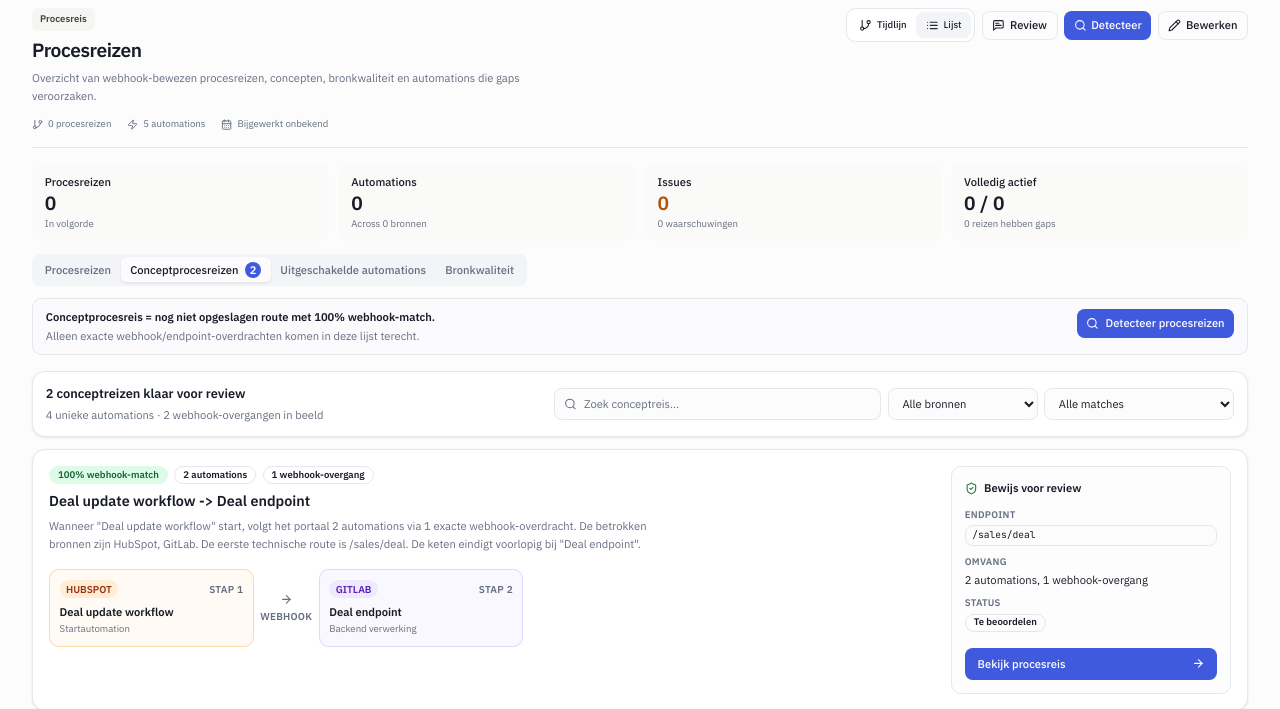
Scenario: concept journeys list › filters concept journey cards by search text
This screenshot has width=1280, height=709.
Step 1. Type "intake" into the field named "Zoek conceptreizen" → point(718, 404), box x1=554 y1=388 x2=881 y2=420
(page scrolled)
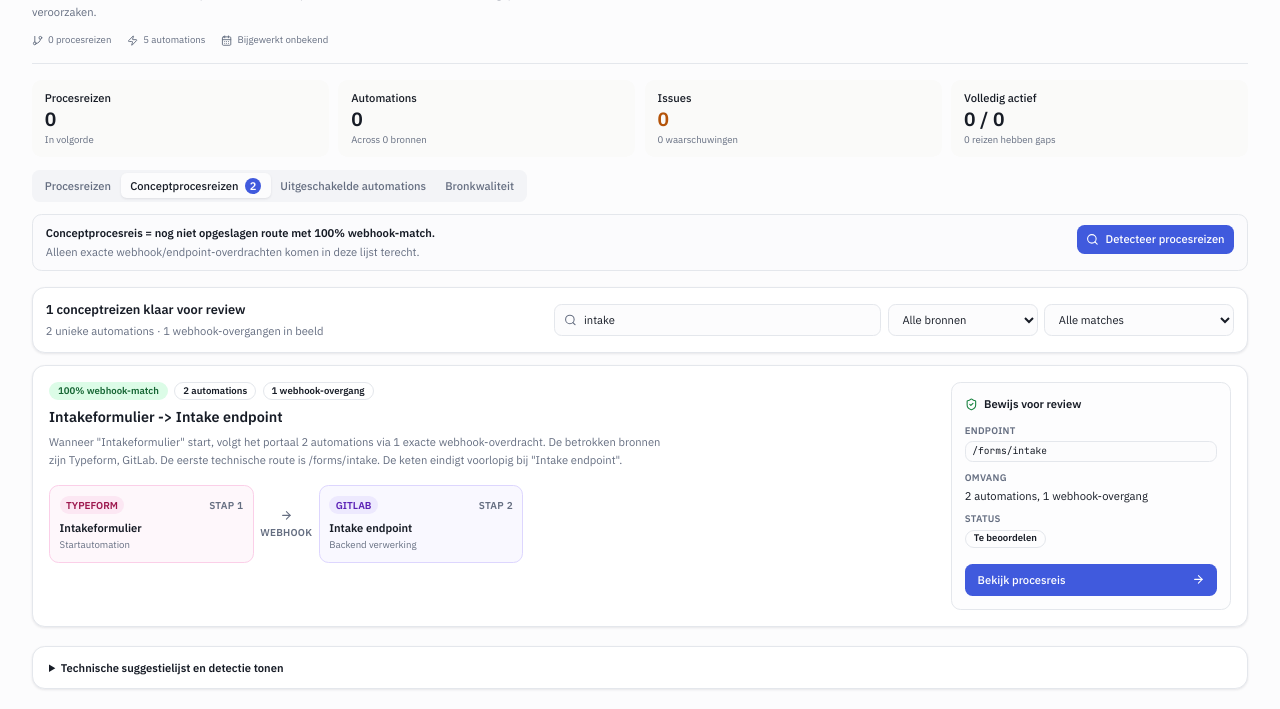
Expected: the element "Intakeformulier" is shown, x1=32 y1=366 x2=1248 y2=627
Result: the heading "Deal update workflow" is gone
